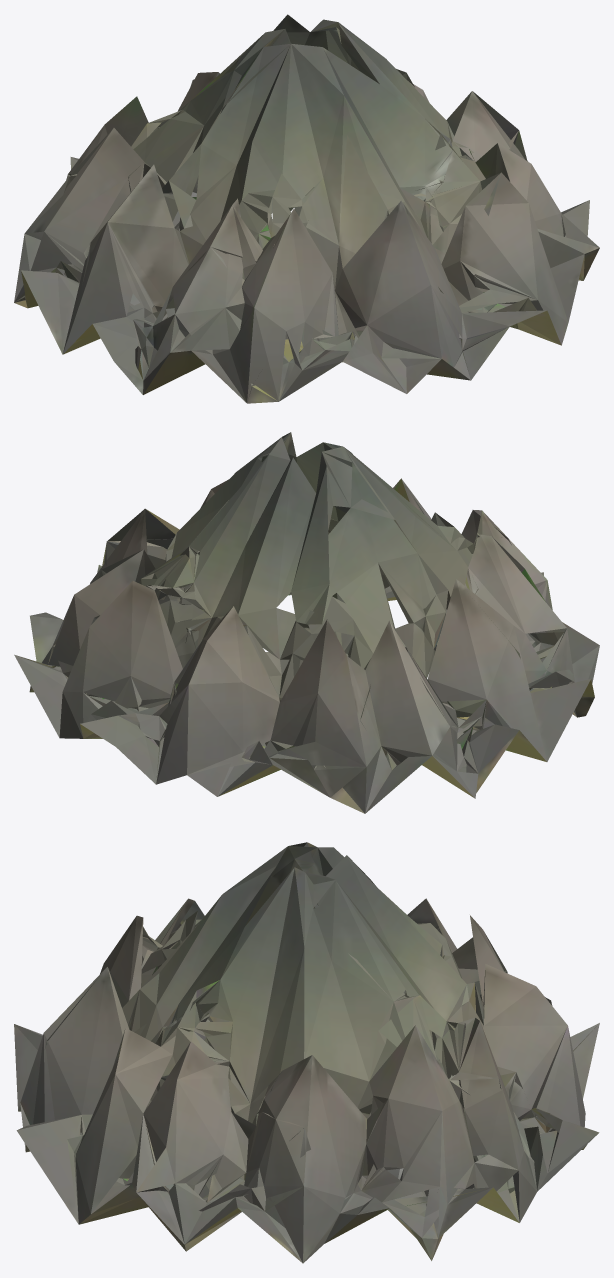
Rendered from loto_shanghai.glb.
3 renders of one model, top to bottom at view 1: azimuth 30°, elevation 25°; view 2: azimuth 150°, elevation 25°; view 3: azimuth 270°, elevation 25°, orthographic. The views are drawn at different scales.
Visible parts, largest first — view 1: tmpythi9m2s.ply; view 2: tmpythi9m2s.ply; view 3: tmpythi9m2s.ply.
Boxes of the visible parts, x1,y1,x2,y2 form: tmpythi9m2s.ply: (14,14,599,403); tmpythi9m2s.ply: (14,432,599,813); tmpythi9m2s.ply: (14,842,599,1263).
Size of the model in its own units: 1.99 by 1.05 by 1.89.
Materials: 1 (1 with a texture image).
